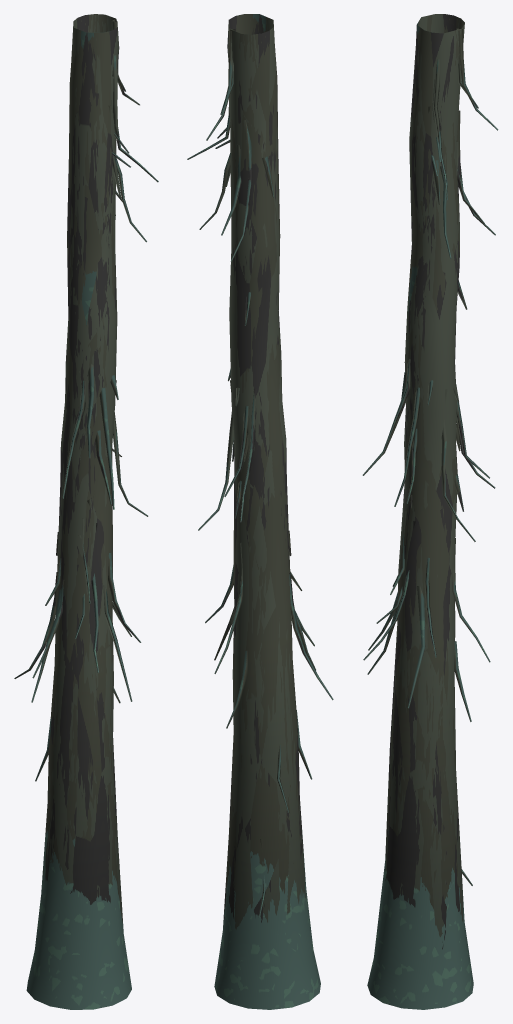
The model's file is TREE_D.fbx.
The picture shows the model from 3 angles, left to right: view 1: azimuth 30°, elevation 25°; view 2: azimuth 210°, elevation 25°; view 3: azimuth 330°, elevation 25°; orthographic projection.
Visible parts, largest first — view 1: TREE_D; view 2: TREE_D; view 3: TREE_D.
Boxes of the visible parts, x1,y1,x2,y2 form: TREE_D: (14,14,158,1009); TREE_D: (187,14,333,1009); TREE_D: (362,14,498,1009).
Size of the model in its own units: 362 by 2780 by 354.
